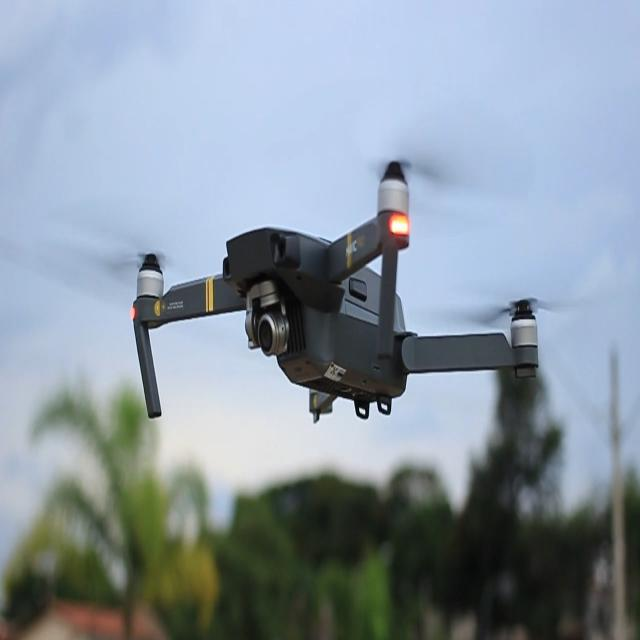Drone: (131, 162, 538, 423)
